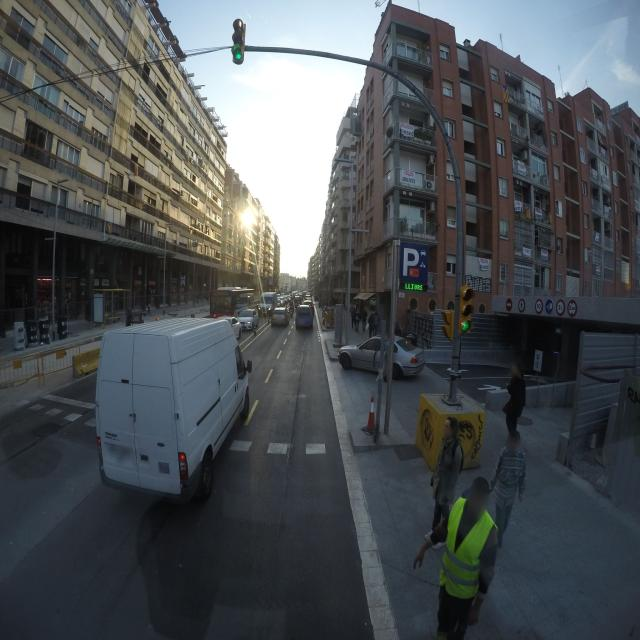car: (95, 314, 253, 507), (339, 335, 425, 380), (237, 308, 259, 333), (295, 304, 314, 330), (271, 306, 290, 328)
